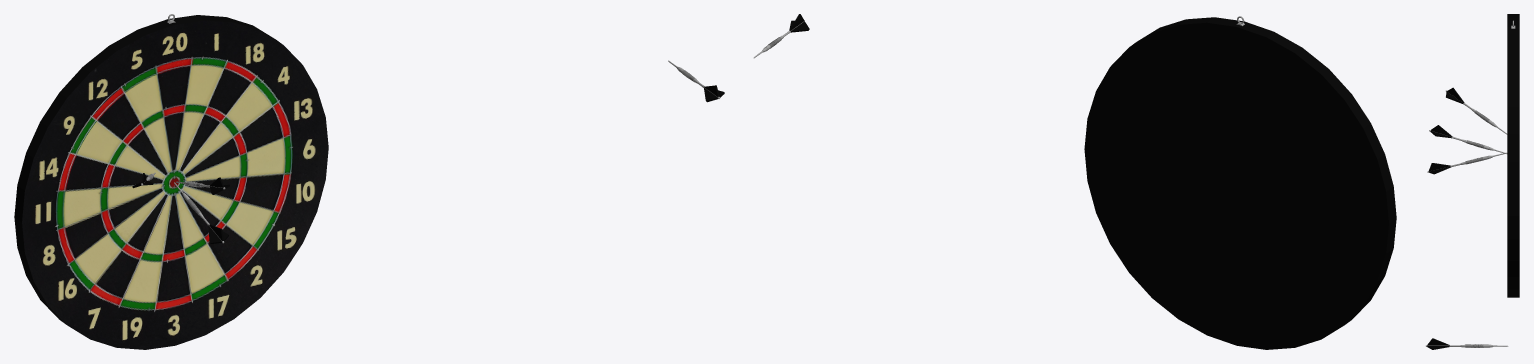
Rendered from Dart.fbx.
3 views of the same model, side by side, from view 1: azimuth 30°, elevation 25°; view 2: azimuth 150°, elevation 25°; view 3: azimuth 270°, elevation 25° (orthographic). The views are drawn at different scales.
Parts seen in each view (by area): view 1: Dart Table; view 2: Dart Table; view 3: Dart Table, Tip Dart.001, Tip Dart, Tip Dart.002, Tip Dart.003.
Part boxes in pixels (left/top/right/bottom): Dart Table: left=14, top=14, right=328, bottom=349; Dart Table: left=1084, top=16, right=1396, bottom=349; Dart Table: left=1507, top=14, right=1519, bottom=297; Tip Dart.001: left=1426, top=338, right=1508, bottom=349; Tip Dart: left=1429, top=125, right=1507, bottom=153; Tip Dart.002: left=1427, top=152, right=1506, bottom=174; Tip Dart.003: left=1446, top=87, right=1507, bottom=134.
Size of the model in its own units: 428 by 205 by 66.22.
Materials: 5 (1 with a texture image).
